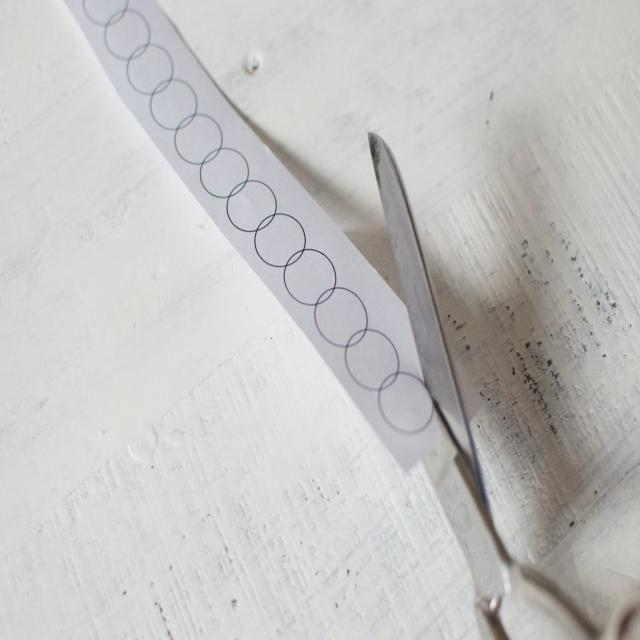scissors: (366, 129, 639, 638)
